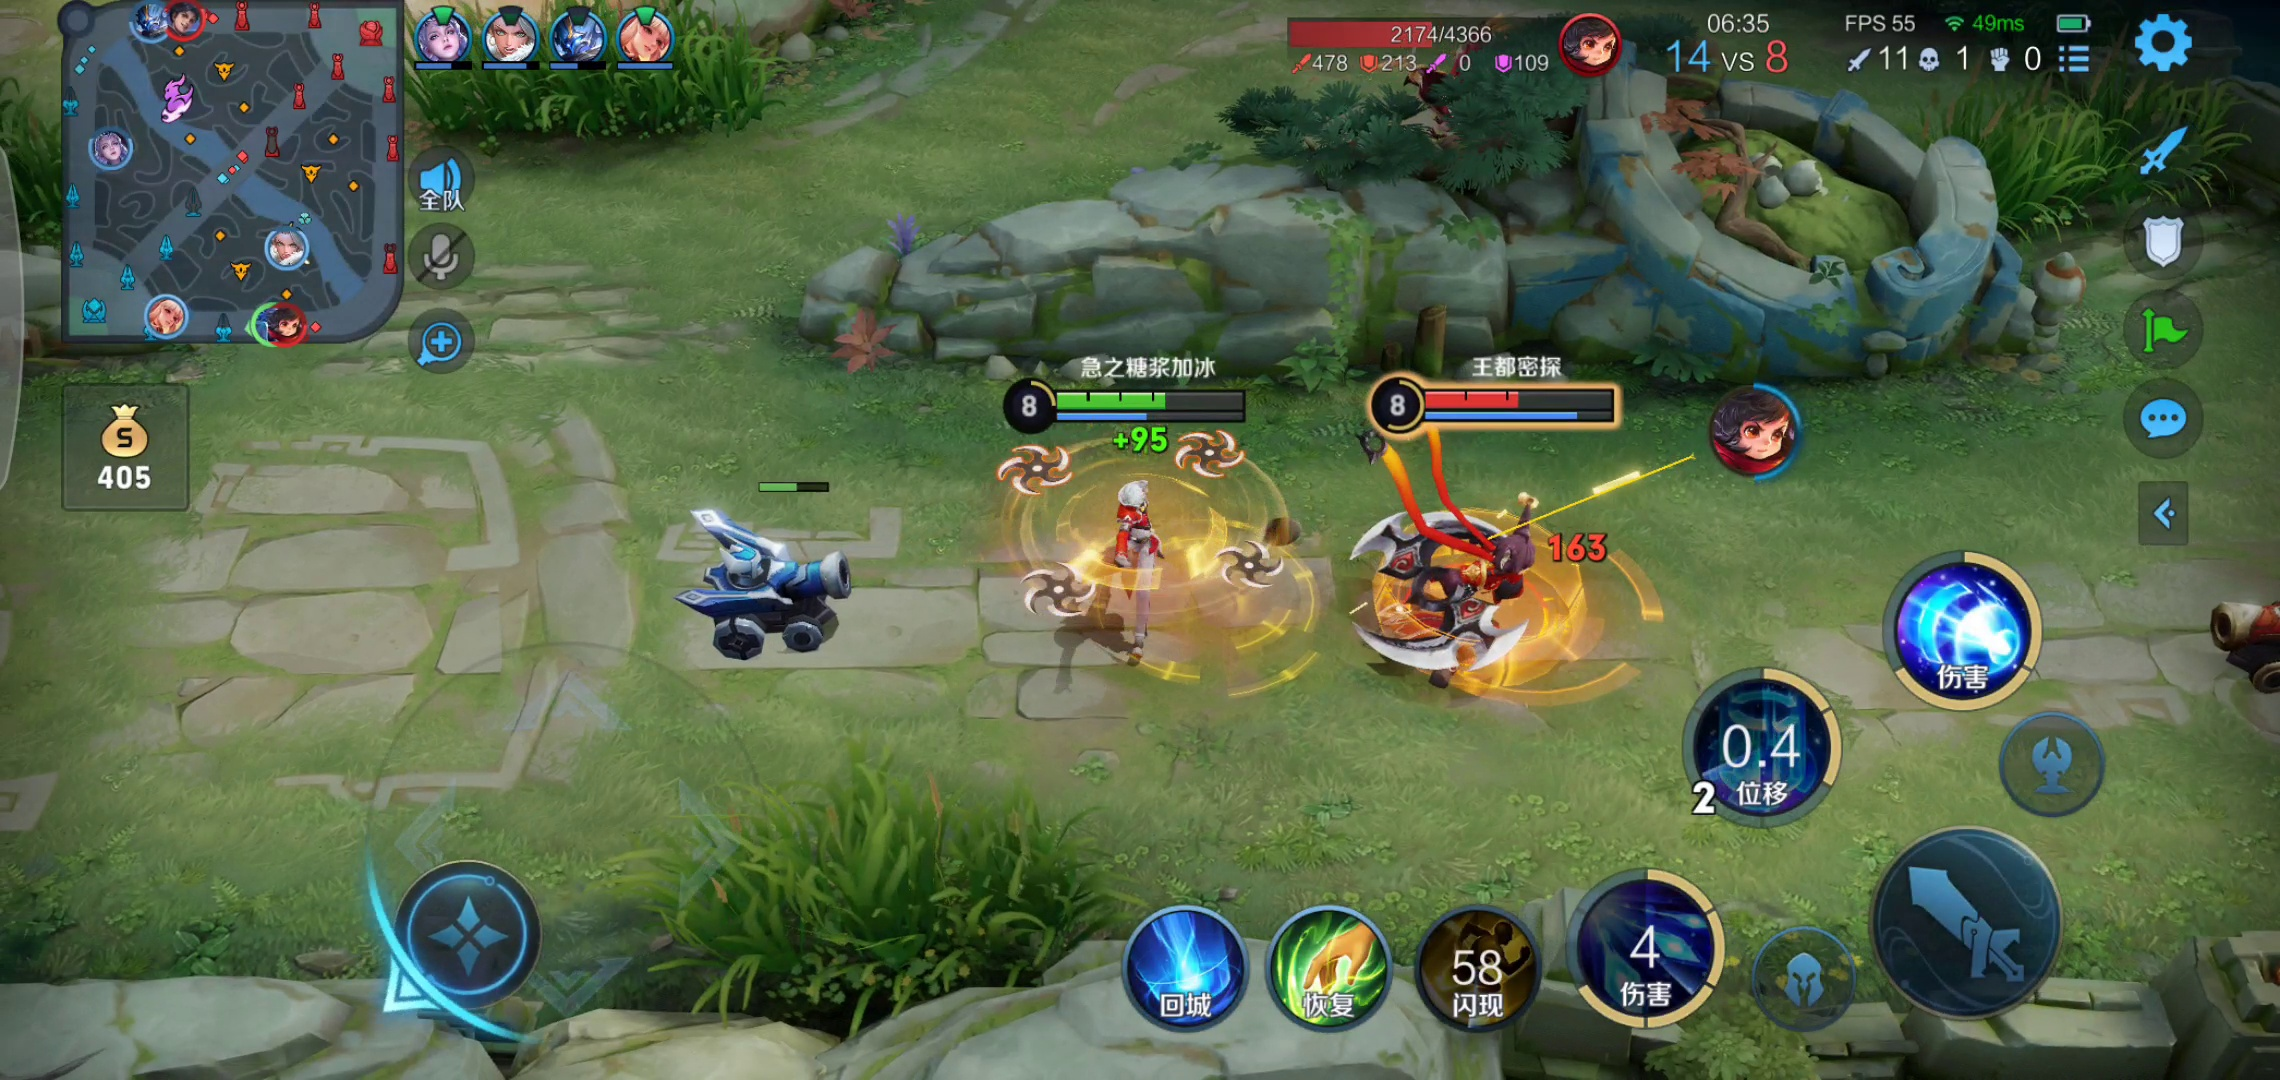grass: (617, 776, 1153, 1026), (425, 17, 798, 150), (1947, 84, 2252, 219)
hero: (1360, 485, 1573, 685), (1041, 483, 1237, 653)
soldier: (657, 497, 874, 664), (2199, 573, 2280, 690)
